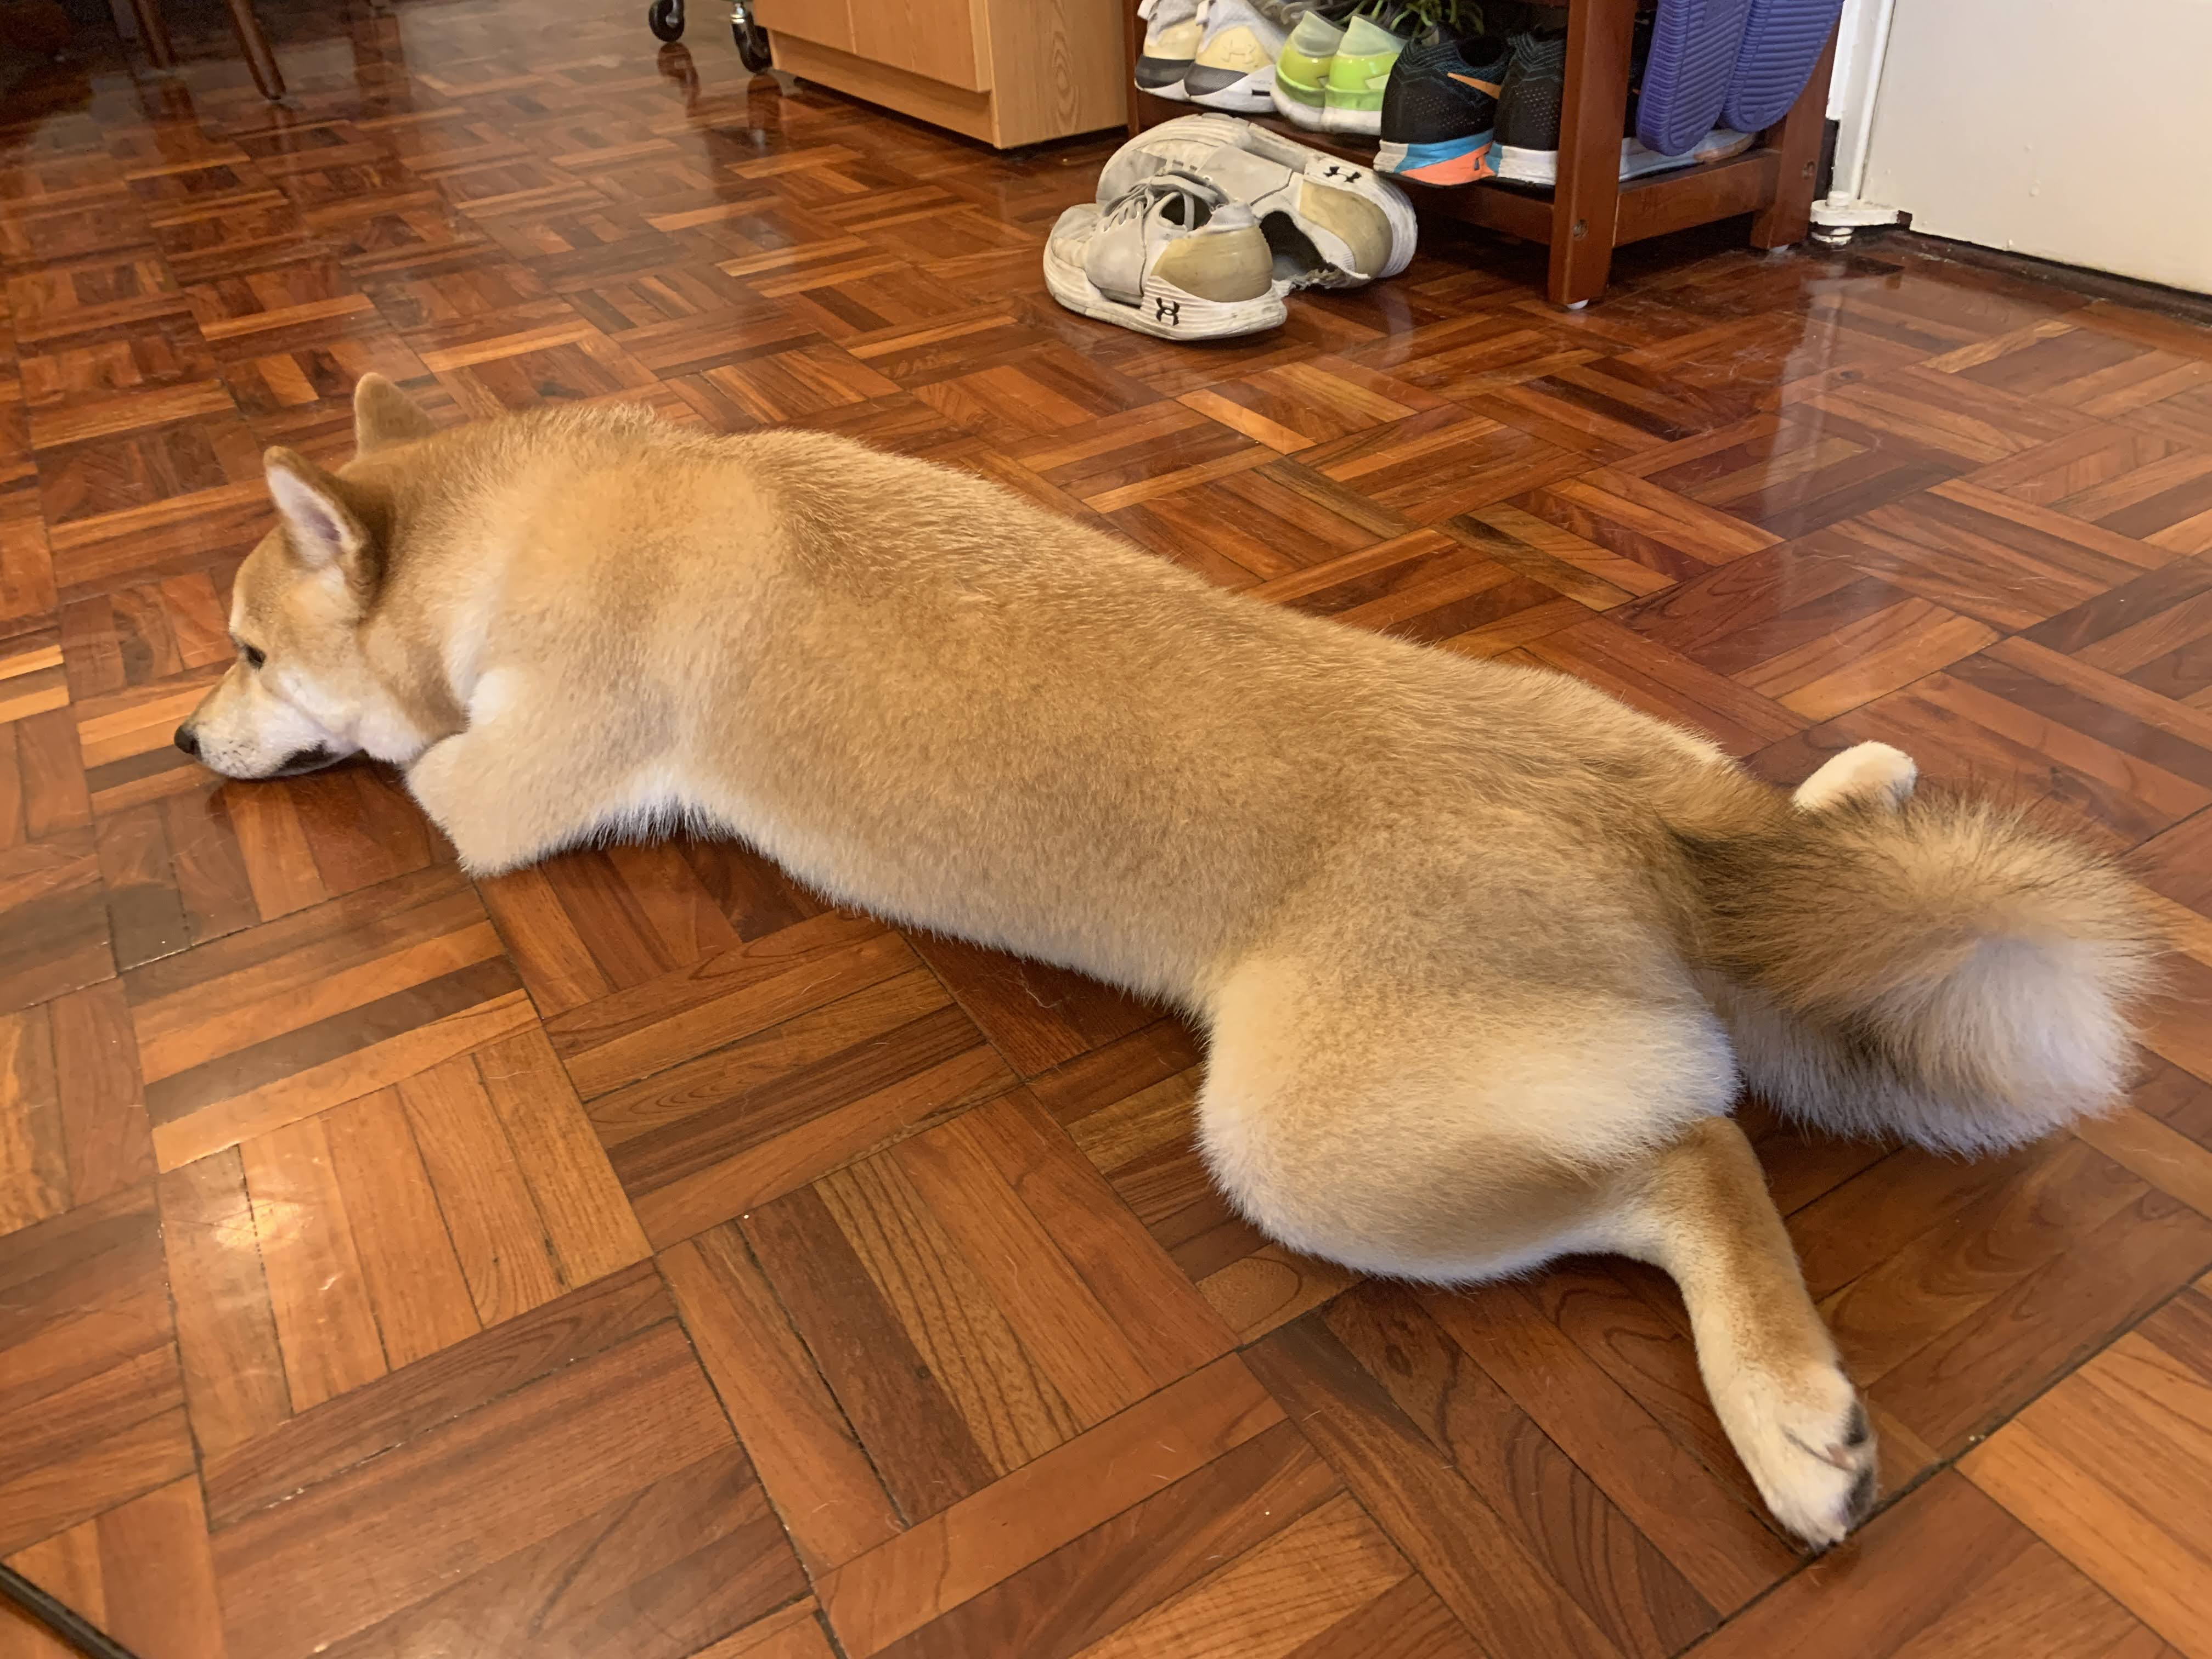Get down: (148, 342, 2186, 1586)
